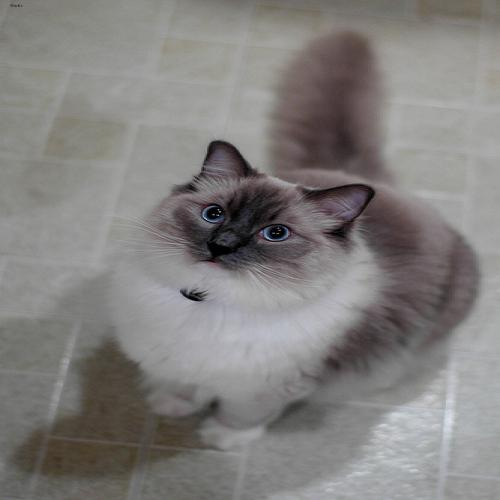ragdoll: (137, 135, 387, 295)
